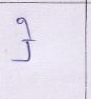e_matra: (16, 18, 37, 39)
